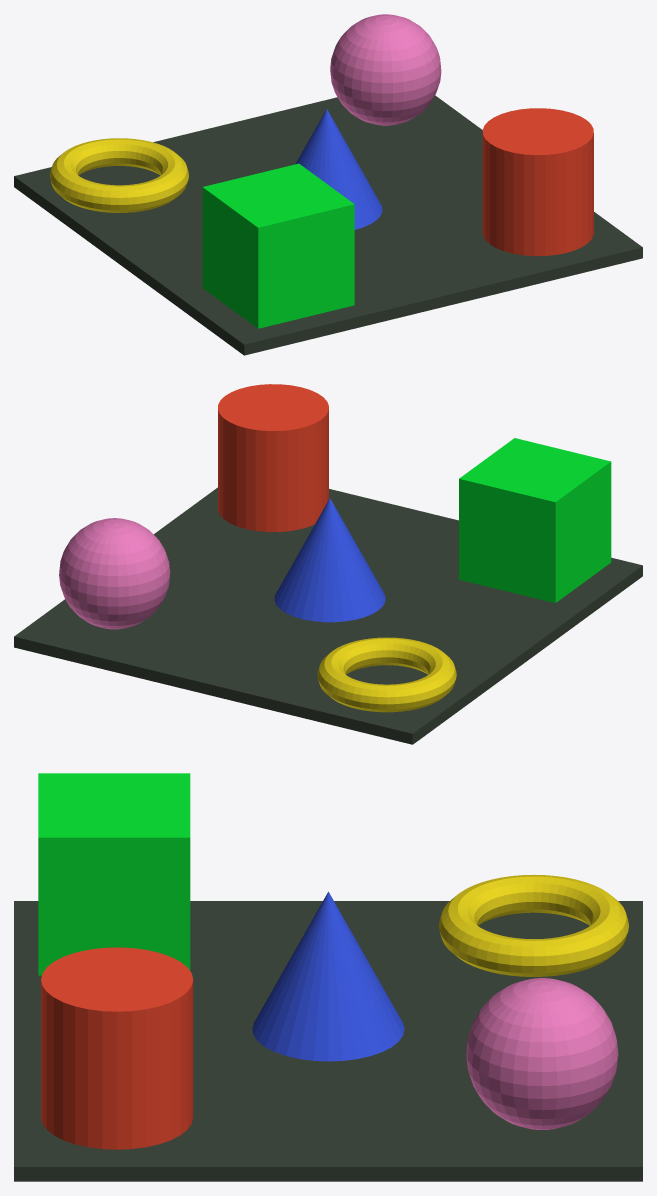
File: multi.dae
3 views of the same model, one above another, from view 1: azimuth 30°, elevation 25°; view 2: azimuth 150°, elevation 25°; view 3: azimuth 270°, elevation 25° (orthographic). The views are drawn at different scales.
Parts seen in each view (by area): view 1: Cube, Cube.001, Cylinder, Sphere, Torus, Cone; view 2: Cube, Cube.001, Cylinder, Sphere, Cone, Torus; view 3: Cube, Cylinder, Cube.001, Sphere, Cone, Torus.
Boxes of the visible parts, x1,y1,x2,y2 form: Cube: (14, 95, 642, 355); Cube.001: (202, 163, 354, 328); Cylinder: (482, 108, 593, 256); Sphere: (330, 14, 441, 125); Torus: (50, 138, 188, 212); Cone: (295, 109, 382, 229); Cube: (14, 487, 642, 744); Cube.001: (459, 438, 611, 603); Cylinder: (218, 384, 328, 531); Sphere: (59, 518, 170, 629); Cone: (274, 498, 385, 622); Torus: (317, 637, 456, 712); Cube: (14, 901, 642, 1181); Cylinder: (41, 947, 193, 1149); Cube.001: (38, 773, 190, 975); Sphere: (466, 978, 618, 1129); Cone: (252, 891, 404, 1061); Torus: (439, 874, 628, 976).
Size of the model in its own units: 8.26 by 8.26 by 2.29.
